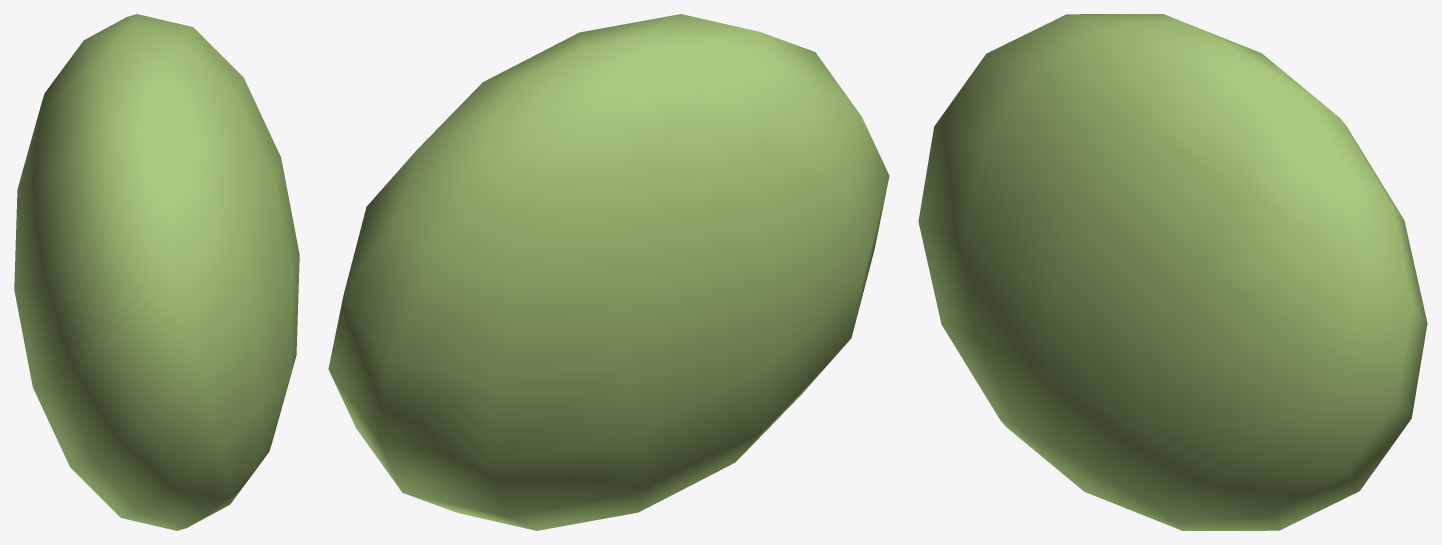
File: palatine-tonsil-l.glb
The picture shows the model from 3 angles, left to right: view 1: azimuth 30°, elevation 25°; view 2: azimuth 150°, elevation 25°; view 3: azimuth 270°, elevation 25°; orthographic projection. The views are drawn at different scales.
Visible parts, largest first — view 1: Palatine tonsil.l; view 2: Palatine tonsil.l; view 3: Palatine tonsil.l.
Boxes of the visible parts, bbox=[...] form: Palatine tonsil.l: bbox=[14, 14, 299, 530]; Palatine tonsil.l: bbox=[328, 14, 889, 530]; Palatine tonsil.l: bbox=[918, 14, 1427, 530].
Size of the model in its own units: 0.00753 by 0.00988 by 0.0097.
